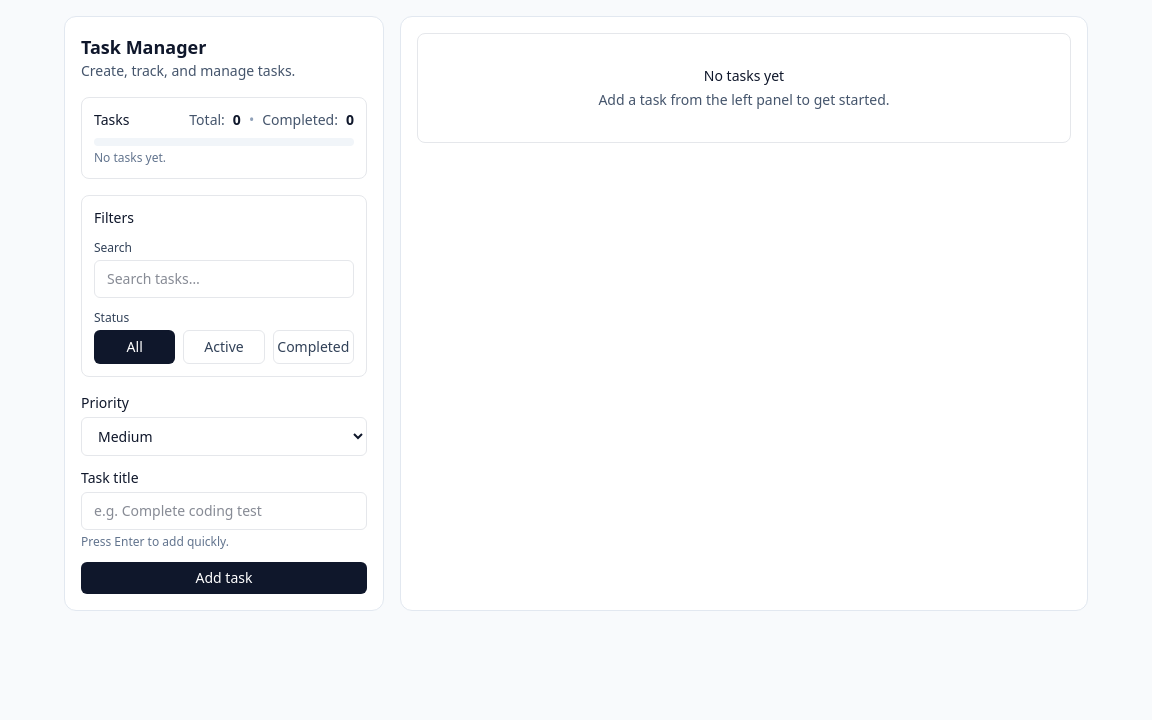
Test case: App filters › clears filters (search + status)
The image size is (1152, 720).
# Add two tasks
In the field labelled "Task title": (224, 511) [81,492,367,530], type "Buy milk"
Click the button "Add task": (224, 578) [81,562,367,594]
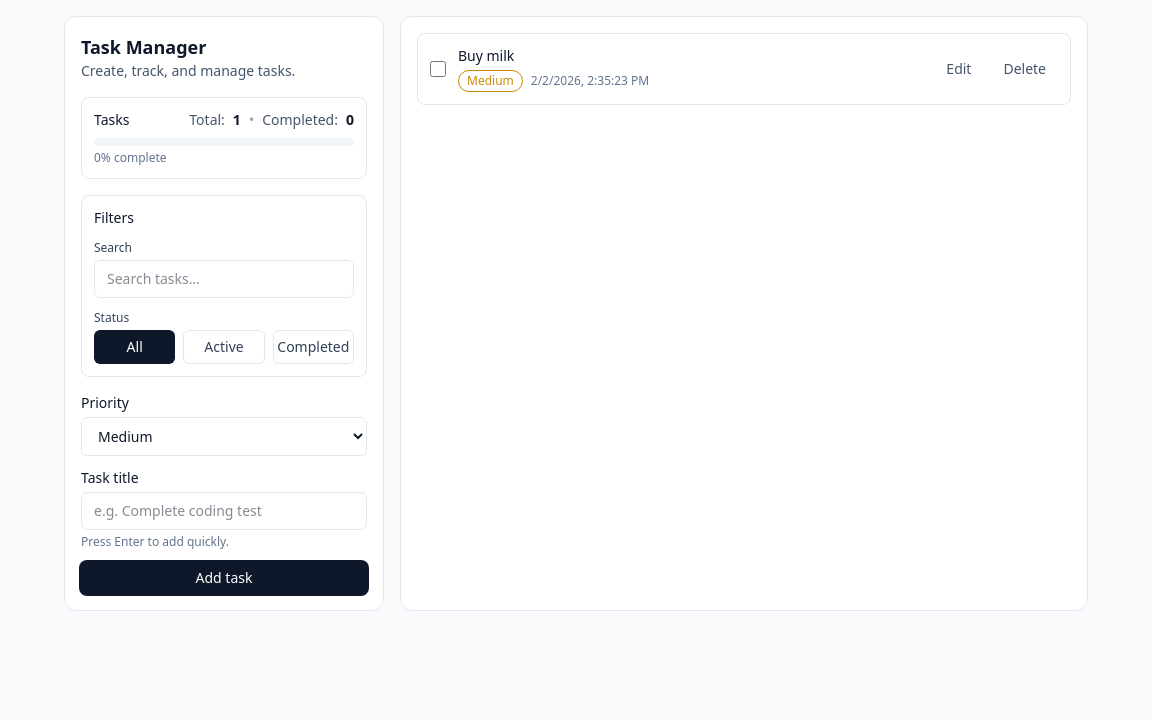
In the field labelled "Task title": (224, 511) [81,492,367,530], type "Read book"
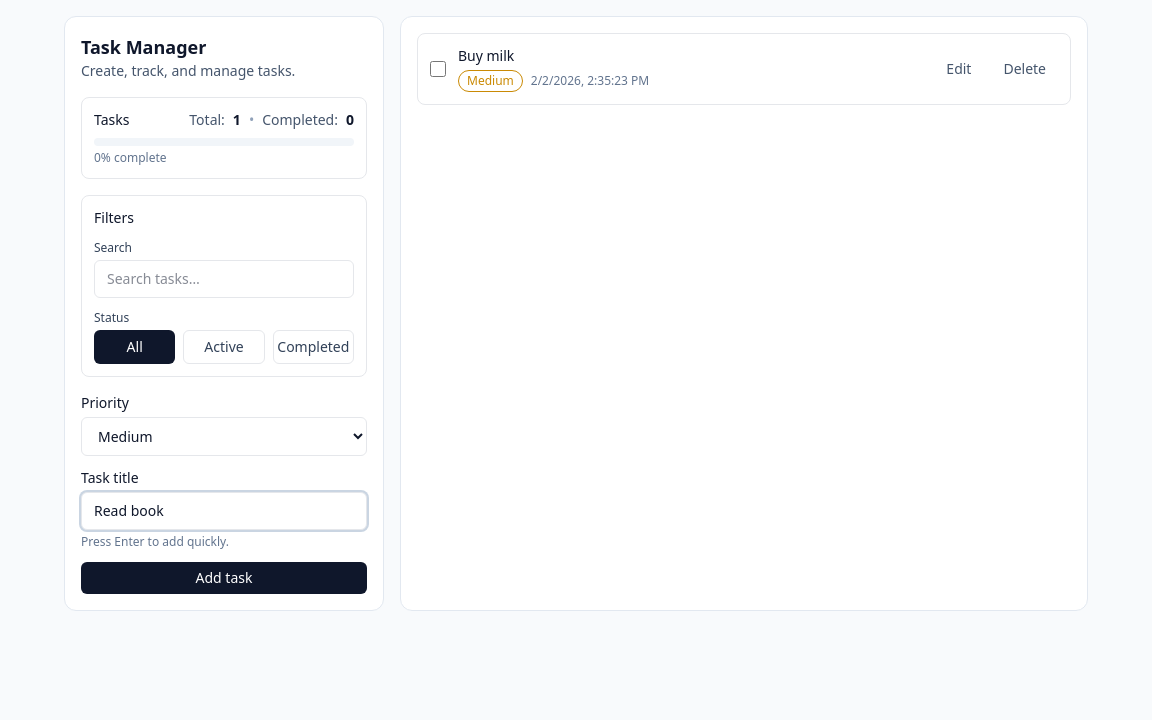
Click the button "Add task": (224, 578) [81,562,367,594]
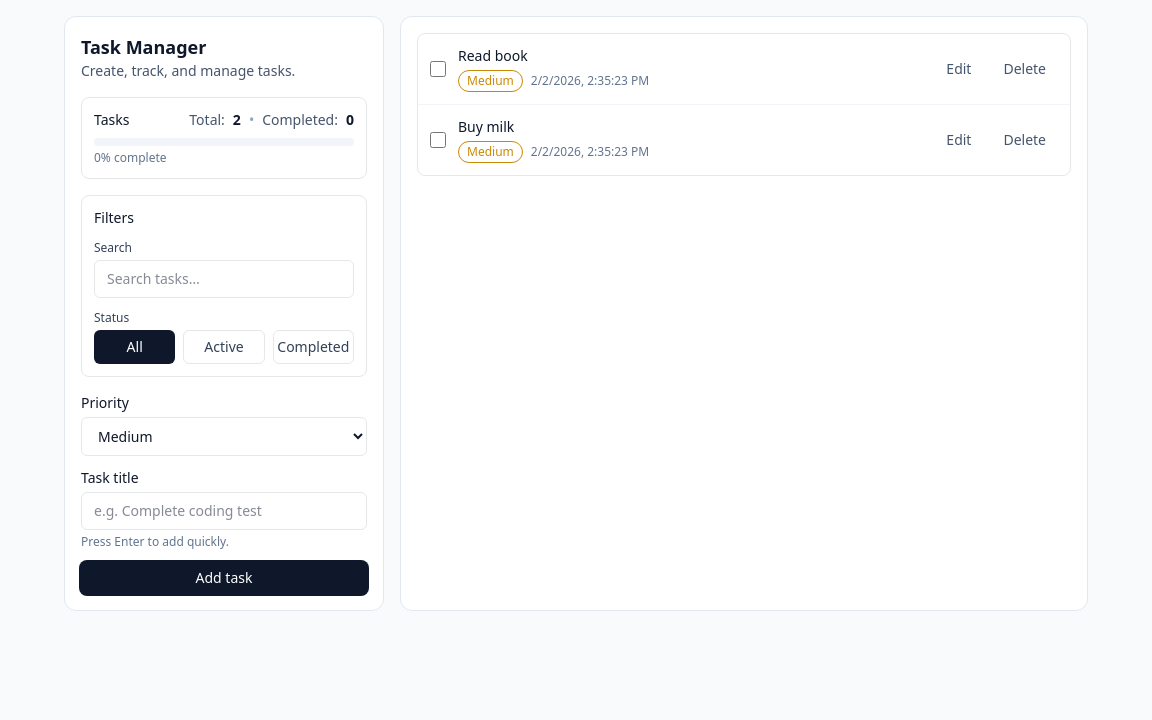
# Apply a status filter and a search query
Click the button "Active": (224, 347) [183,330,265,364]
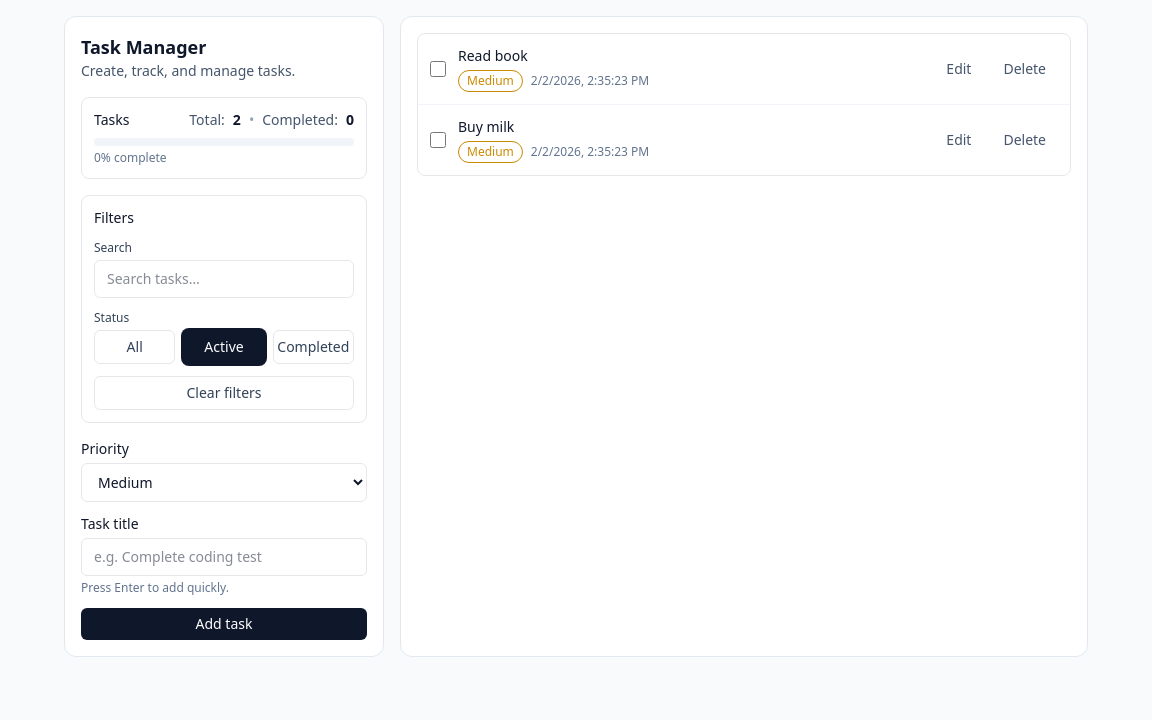
In the field labelled "Search": (224, 279) [94,260,354,298], type "milk"
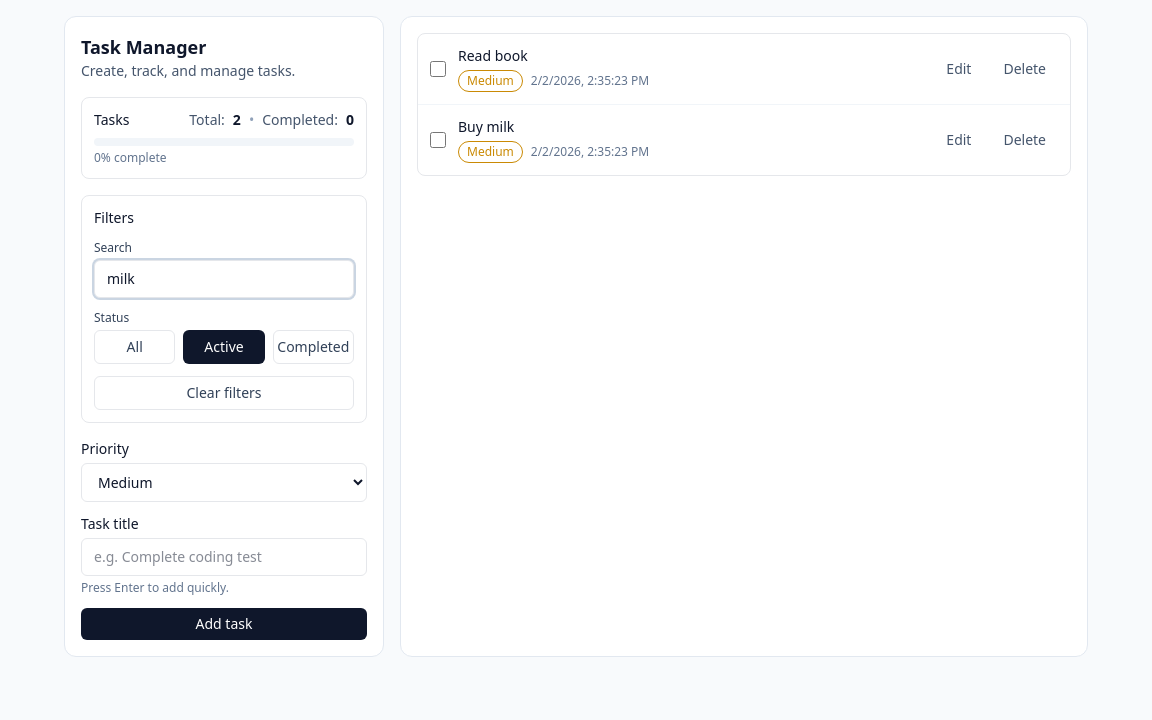
# Clear button should appear after filters are active
Click the button "Clear filters": (224, 393) [94,376,354,410]
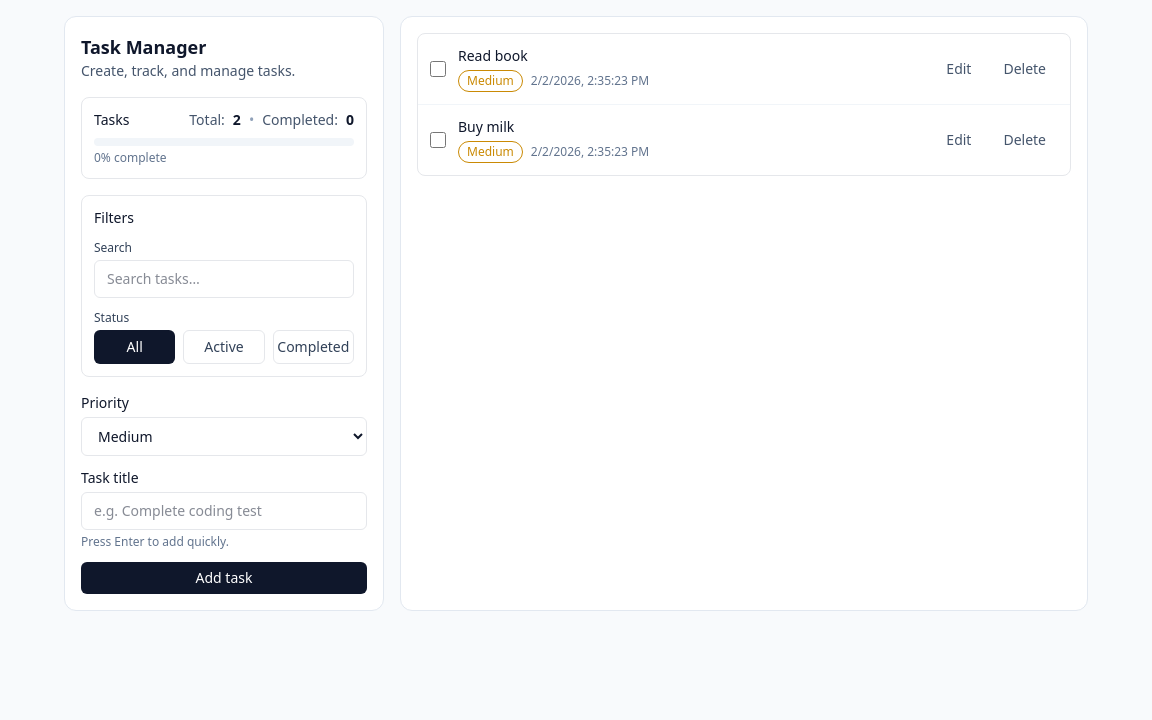
Now the text "Buy milk" is shown, box [458,117,514,136]
Now the text "Read book" is shown, box [458,46,528,65]
Now the field labelled "Search" is empty, box [94,260,354,298]
